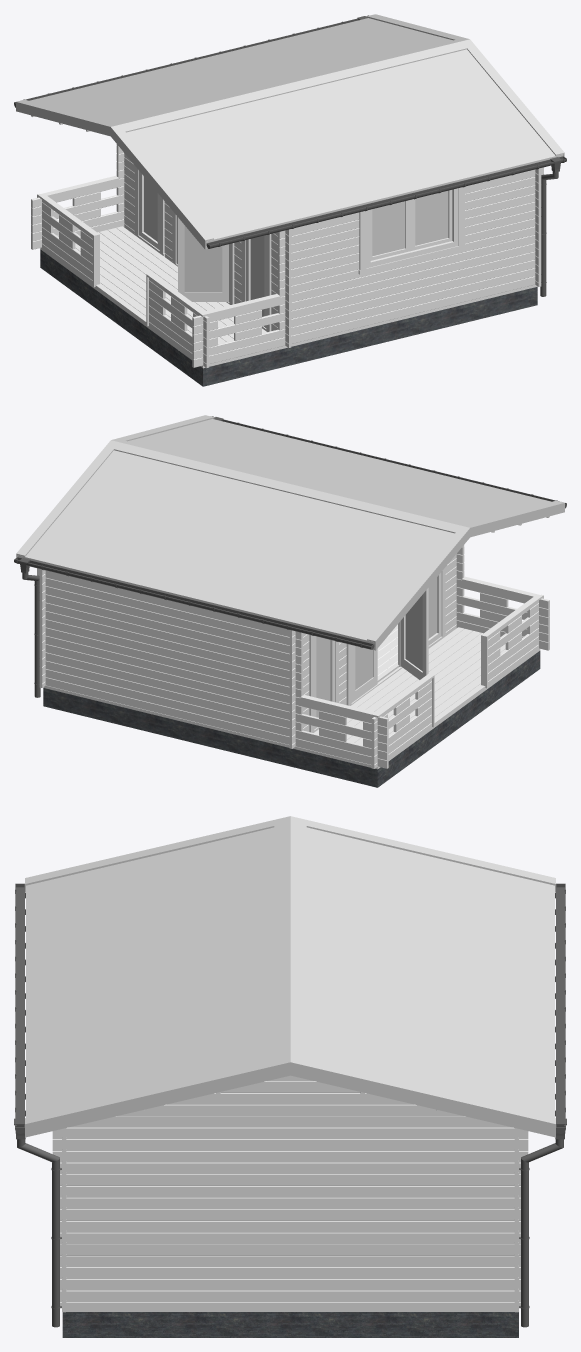
The model's file is ania.glb.
3 views of the same model, one above another, from view 1: azimuth 30°, elevation 25°; view 2: azimuth 150°, elevation 25°; view 3: azimuth 270°, elevation 25° (orthographic). The views are drawn at different scales.
Visible parts, largest first — view 1: SM_L1_Ania_roof_afrodyta, SM_L0_Ania_walls_exterior, SM_L1_Ania_roof_second, SM_L0_Ania_exterior_stone_flat_wall, SM_L0_Ania_windows, SM_L0_Ania_glass, floor_prefix_SM_L0_Ania_walls_exterior, SM_L1_Ania_gutters, SM_L1_Ania_roof_first; view 2: SM_L1_Ania_roof_afrodyta, SM_L0_Ania_walls_exterior, SM_L1_Ania_roof_second, SM_L0_Ania_exterior_stone_flat_wall, floor_prefix_SM_L0_Ania_walls_exterior, SM_L1_Ania_gutters, SM_L0_Ania_windows, SM_L0_Ania_glass, SM_L1_Ania_roof_first, floor_prefix_SM_L0_Ania_walls_interiors; view 3: SM_L1_Ania_roof_afrodyta, SM_L0_Ania_walls_exterior, SM_L1_Ania_roof_second, SM_L0_Ania_exterior_stone_flat_wall, SM_L1_Ania_gutters, SM_L1_Ania_roof_first.
Part boxes in pixels (x1,y1,x2,y2): SM_L1_Ania_roof_afrodyta: (30, 18, 554, 238); SM_L0_Ania_walls_exterior: (31, 115, 543, 368); SM_L1_Ania_roof_second: (16, 14, 564, 249); SM_L0_Ania_exterior_stone_flat_wall: (40, 249, 537, 386); SM_L0_Ania_windows: (134, 166, 465, 331); SM_L0_Ania_glass: (144, 177, 448, 316); floor_prefix_SM_L0_Ania_walls_exterior: (75, 226, 266, 343); SM_L1_Ania_gutters: (14, 15, 566, 296); SM_L1_Ania_roof_first: (29, 18, 563, 248); SM_L1_Ania_roof_afrodyta: (26, 419, 550, 639); SM_L0_Ania_walls_exterior: (37, 516, 549, 769); SM_L1_Ania_roof_second: (16, 415, 564, 650); SM_L0_Ania_exterior_stone_flat_wall: (43, 651, 540, 787); floor_prefix_SM_L0_Ania_walls_exterior: (314, 627, 505, 744); SM_L1_Ania_gutters: (14, 416, 566, 697); SM_L0_Ania_windows: (309, 567, 446, 732); SM_L0_Ania_glass: (316, 578, 436, 717); SM_L1_Ania_roof_first: (17, 419, 551, 649); floor_prefix_SM_L0_Ania_walls_interiors: (377, 624, 397, 678); SM_L1_Ania_roof_afrodyta: (27, 827, 553, 1117); SM_L0_Ania_walls_exterior: (52, 1075, 528, 1312); SM_L1_Ania_roof_second: (25, 816, 555, 1137); SM_L0_Ania_exterior_stone_flat_wall: (62, 1312, 518, 1337); SM_L1_Ania_gutters: (14, 883, 566, 1327); SM_L1_Ania_roof_first: (26, 885, 554, 1117).
Size of the model in its own units: 6.12 by 3.3 by 5.81.
Materials: 22 (8 with a texture image).
